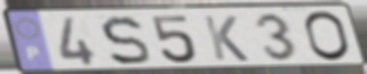3: (253, 12, 300, 64)
4: (57, 16, 99, 69)
5: (149, 14, 200, 65)
K: (201, 14, 252, 63)
O: (302, 9, 353, 63)
S: (98, 14, 154, 67)
